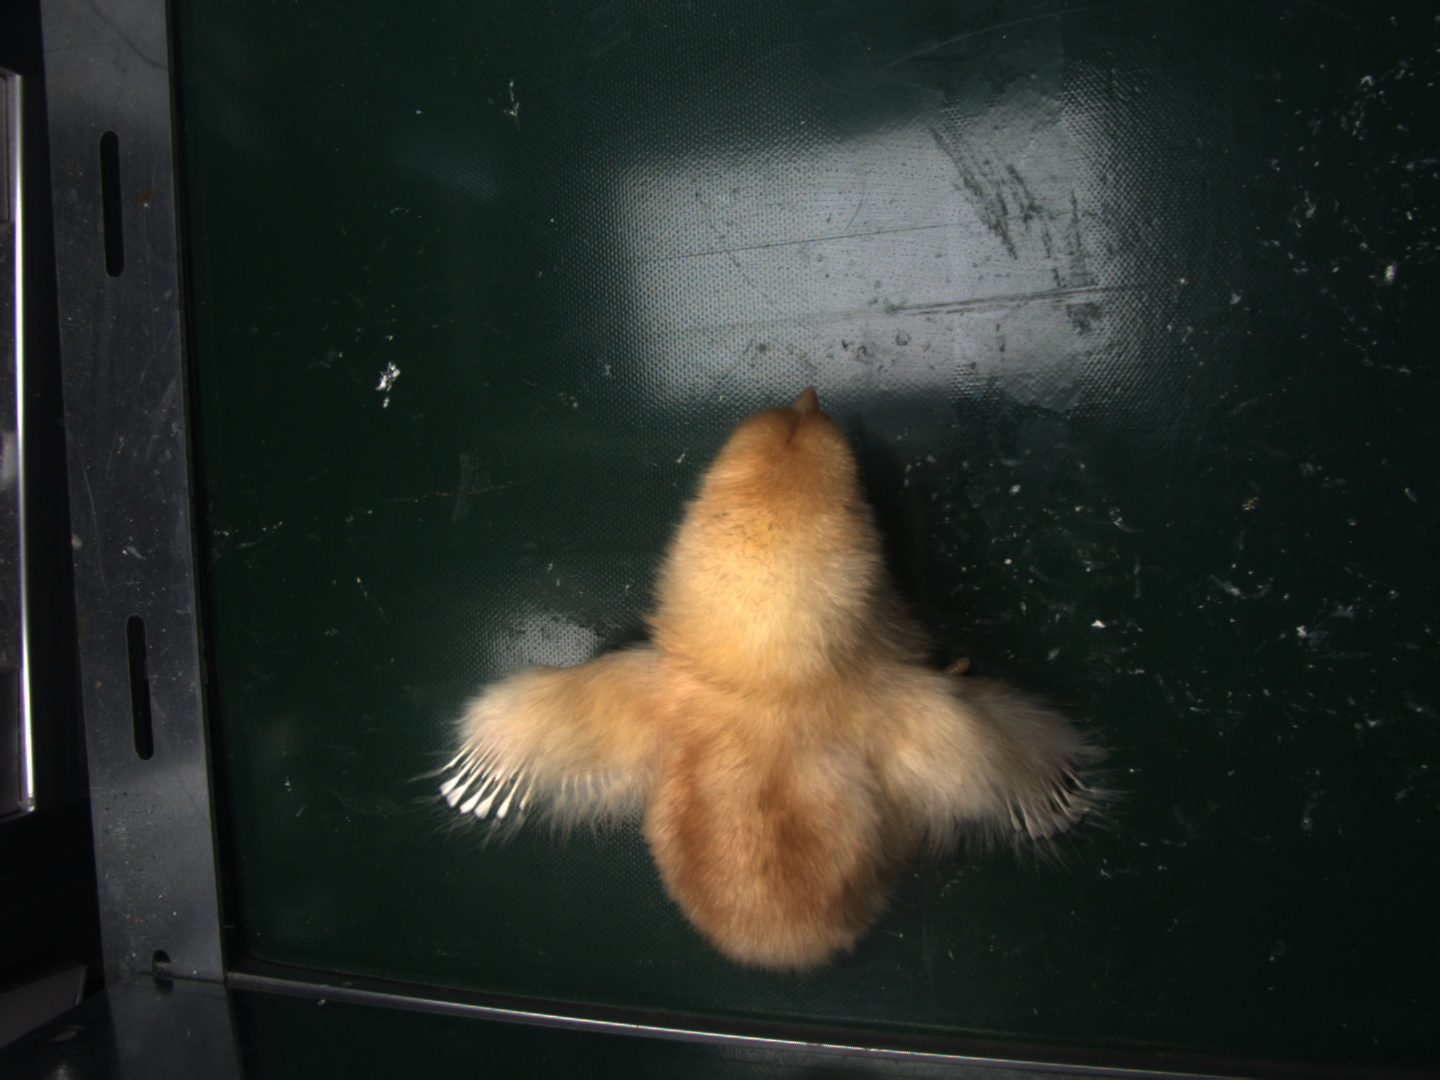female: (447, 739, 534, 812)
